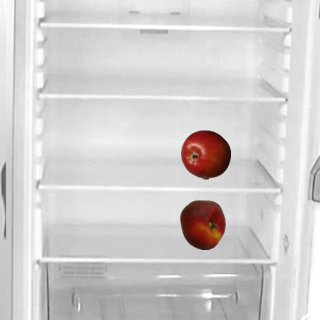Apple Braeburn: (180, 129, 230, 179)
Nectarine Flat: (177, 199, 227, 249)
